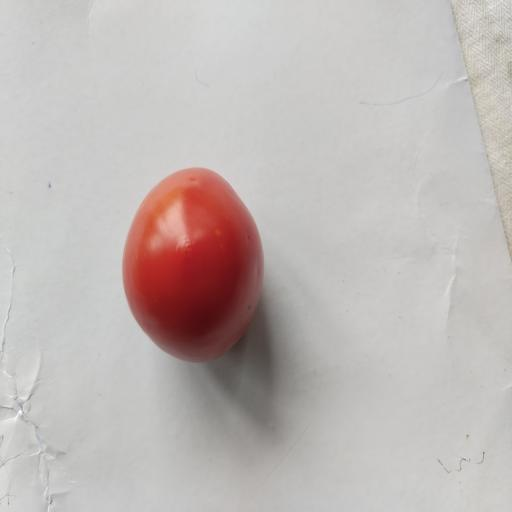ripe: (123, 168, 264, 362)
